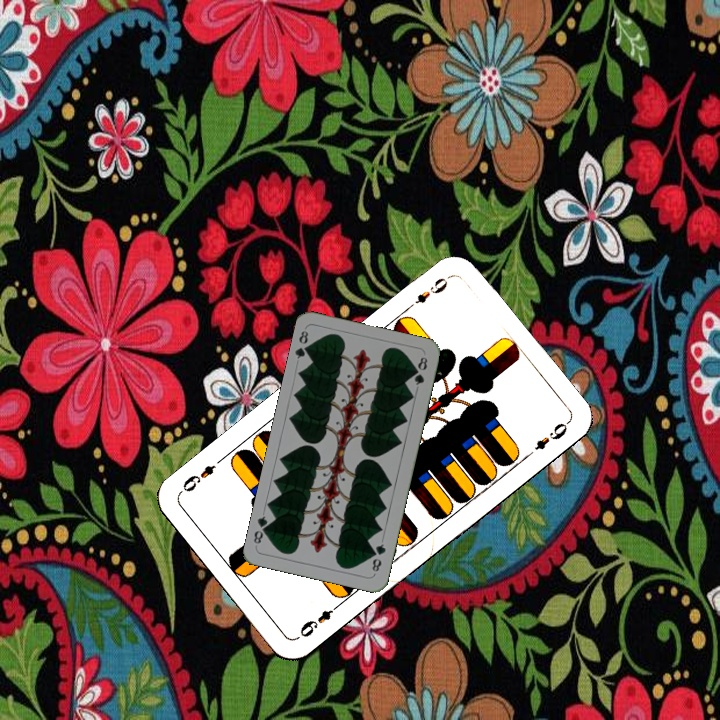E9: (402, 271, 453, 313), (295, 599, 344, 640)
G8: (291, 327, 314, 361), (368, 540, 388, 574)
